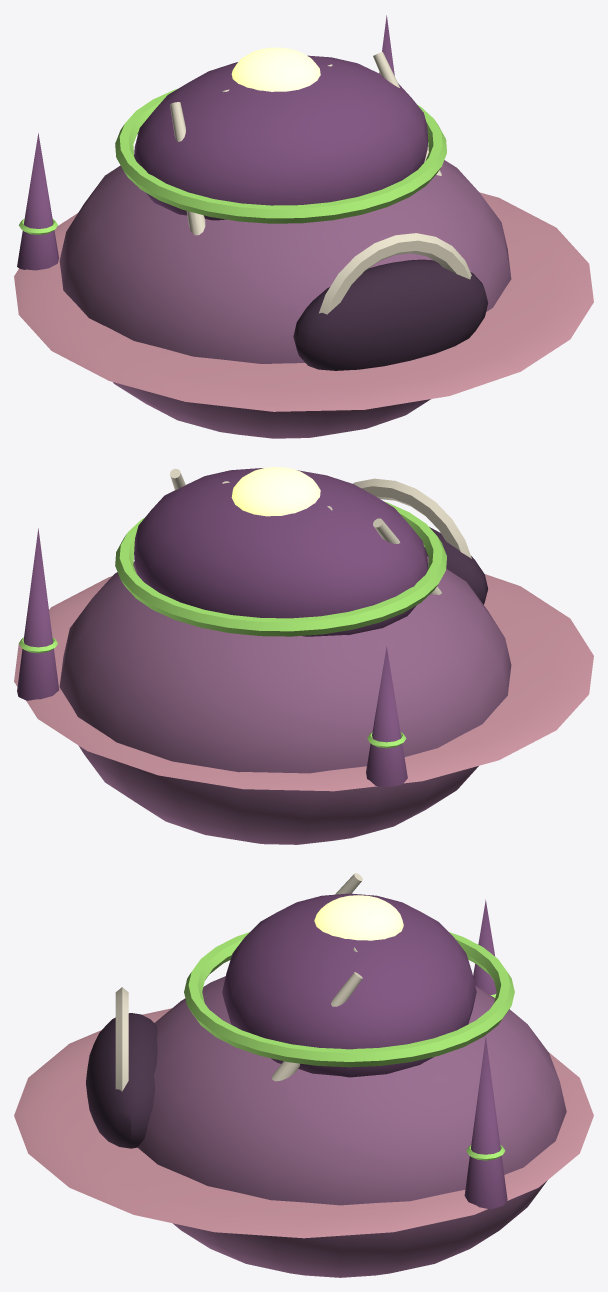
File: factory_ins.glb
3 views of the same model, one above another, from view 1: azimuth 30°, elevation 25°; view 2: azimuth 150°, elevation 25°; view 3: azimuth 270°, elevation 25° (orthographic).
Visible parts, largest first — view 1: factory_ins; view 2: factory_ins; view 3: factory_ins.
Part boxes in pixels (left/top/right/bottom): factory_ins: left=14, top=15, right=593, bottom=438; factory_ins: left=14, top=467, right=593, bottom=844; factory_ins: left=14, top=873, right=593, bottom=1277.
Bounding box in the file's own units: 3.19 × 2.1 × 3.19.
